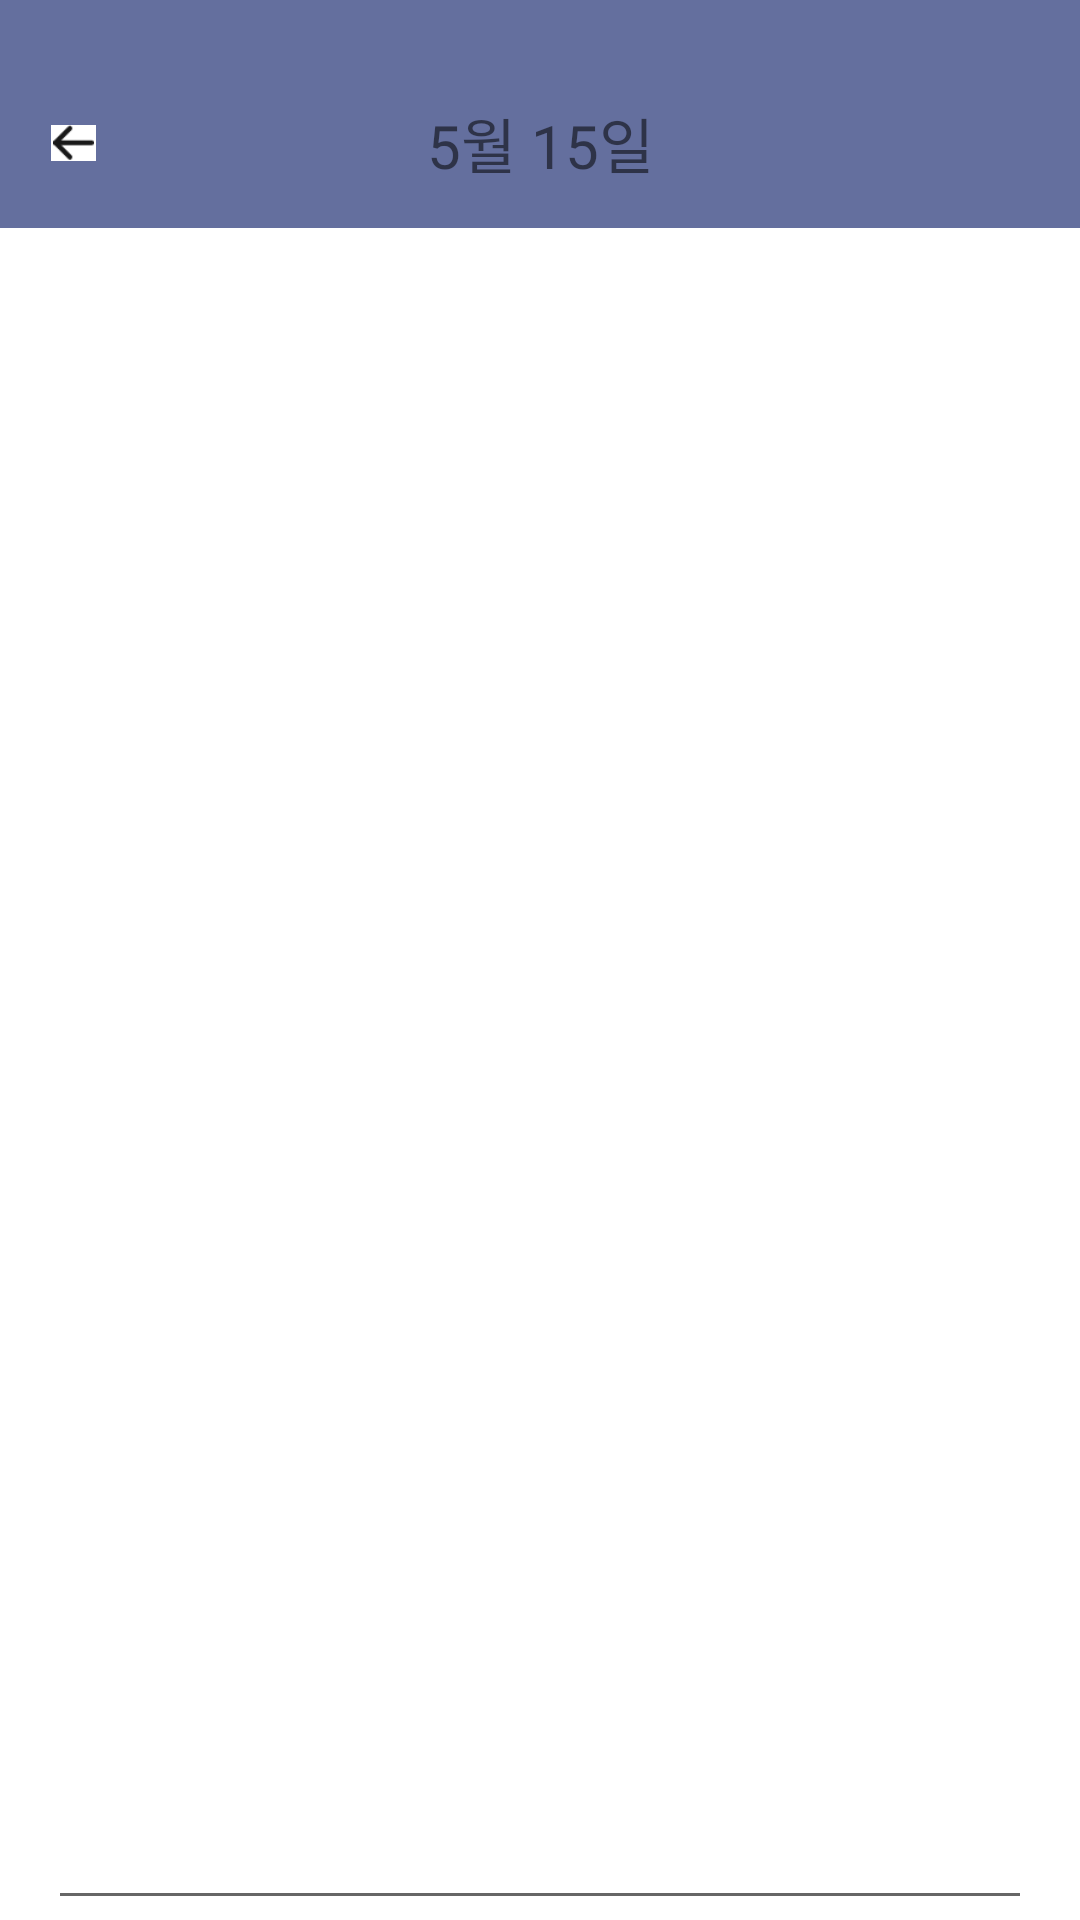

Named icons in this screenshot (1080px x 1920px) and their bounding boxes, (x1, y1, x2, y2):
left arrow: (51, 125, 96, 161)
